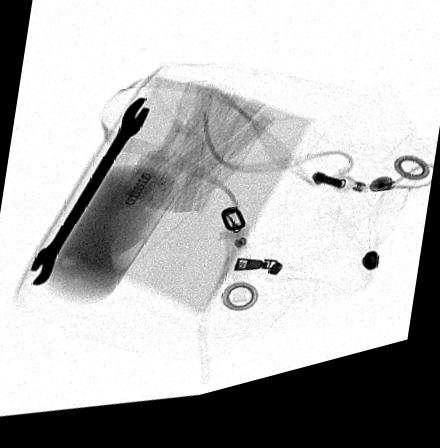Wrench: (28, 103, 151, 287)
